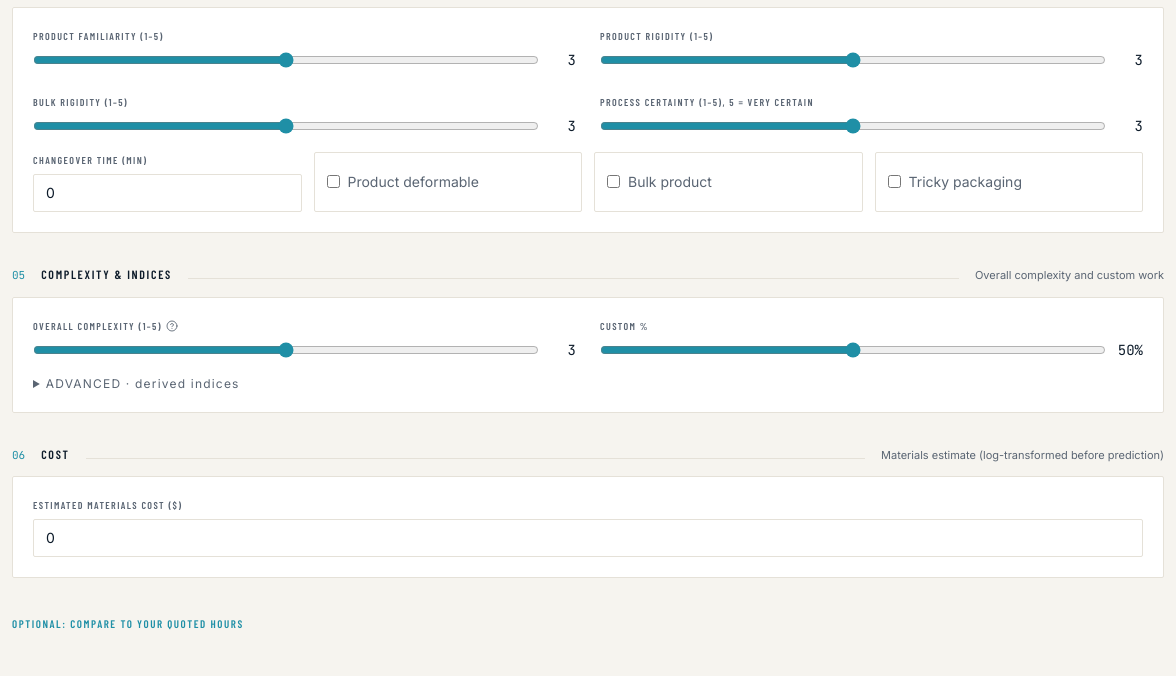
QuoteForm — compare to your quoted hours panel (BUG-01) › shows inline 'Enter a number' validation for non-numeric input
(page scrolled)
Click the button "Optional: compare to your quoted hours".
click(128, 624)  # box [12,615,244,633]
(page scrolled)
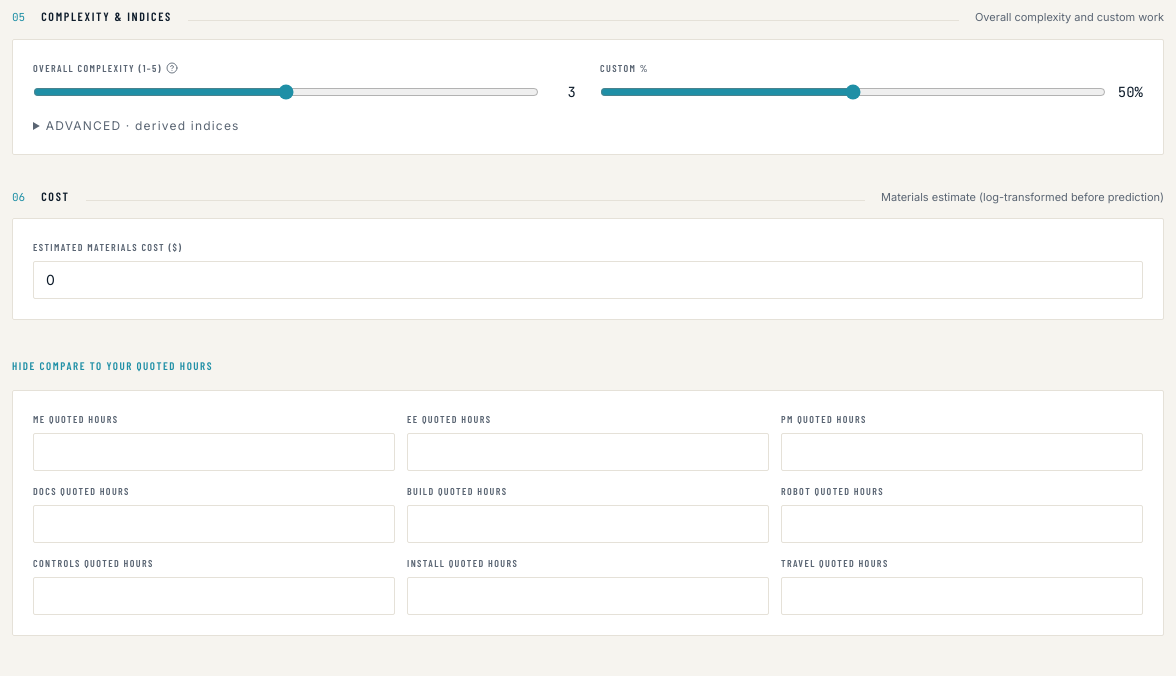
Type "abc" into the field labelled "ME quoted hours".
click(214, 452); type("abc")  # box [33,433,395,471]
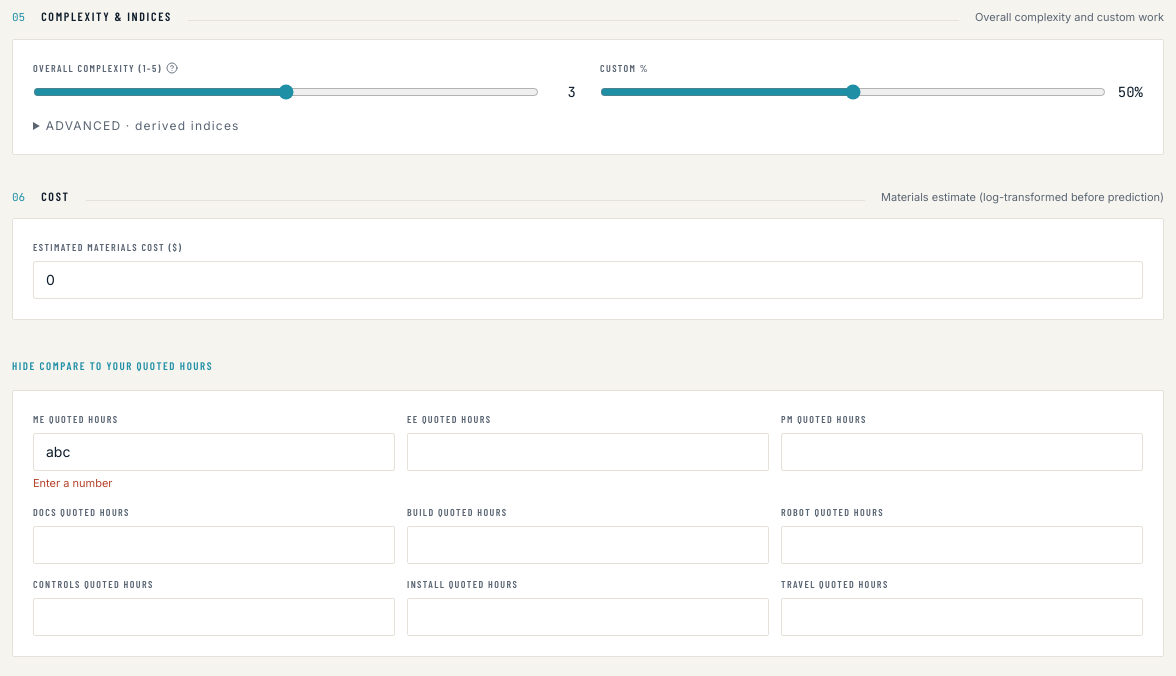
Result: the text "Enter a number" is shown at [33,476,112,490]
